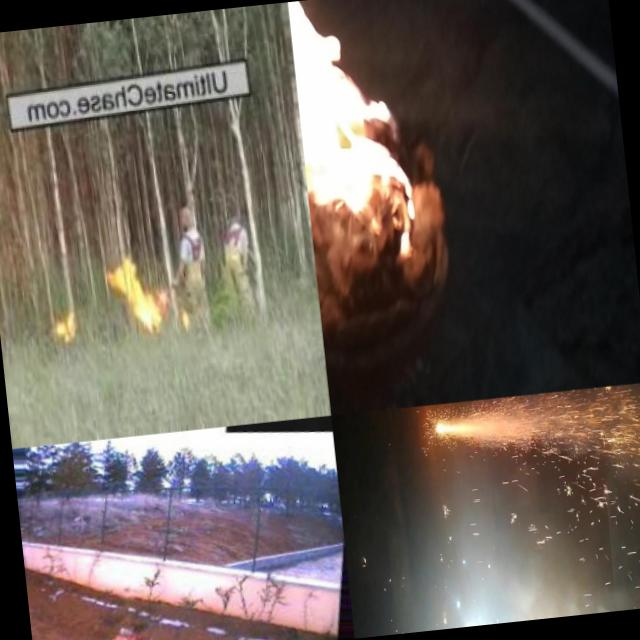fire: (287, 0, 430, 281), (106, 255, 166, 335), (51, 302, 81, 344), (588, 582, 626, 613), (76, 626, 158, 640)
